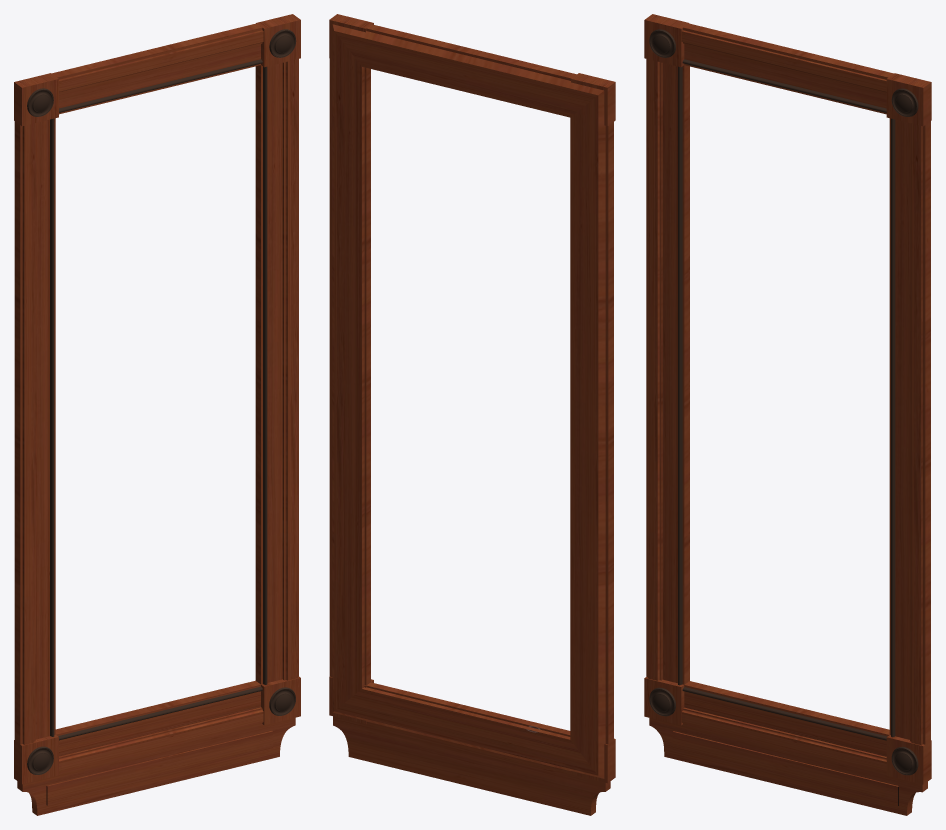
Rendered from frame.fbx.
3 renders of one model, left to right at view 1: azimuth 30°, elevation 25°; view 2: azimuth 150°, elevation 25°; view 3: azimuth 330°, elevation 25°, orthographic.
Parts seen in each view (by area): view 1: Mirror_01; view 2: Mirror_01; view 3: Mirror_01.
Part boxes in pixels (left/top/right/bottom): Mirror_01: left=14, top=14, right=300, bottom=815; Mirror_01: left=329, top=14, right=615, bottom=815; Mirror_01: left=644, top=14, right=931, bottom=815.
Bounding box in the file's own units: 53.79 × 135 × 4.15.
